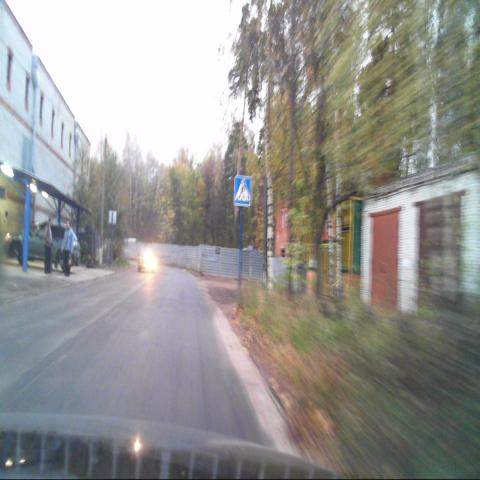5_19_1: (234, 176, 250, 206)
